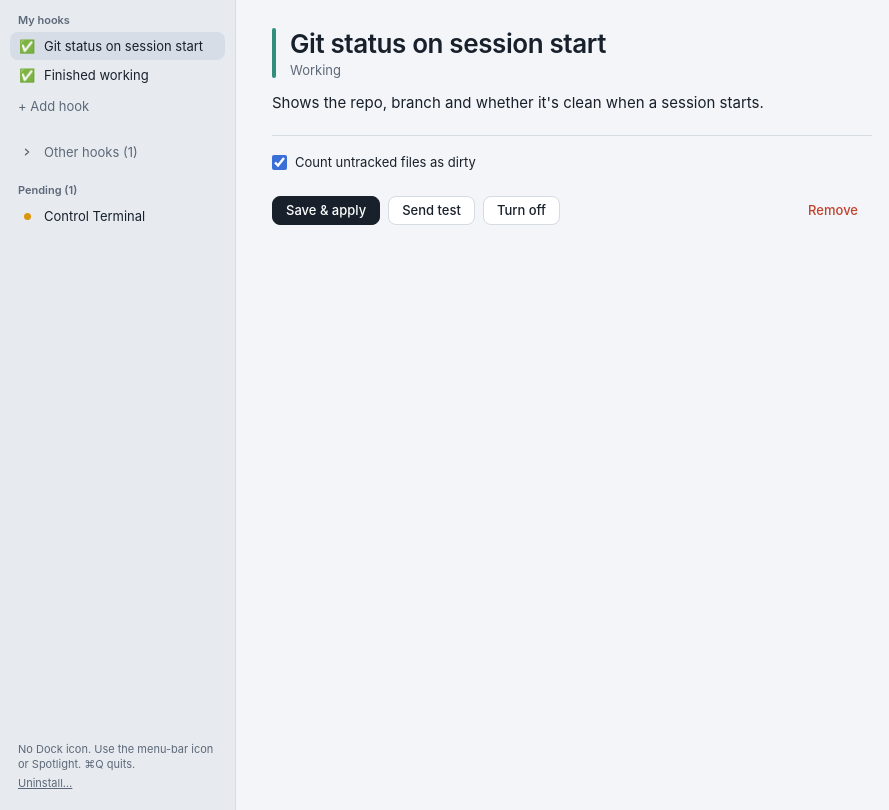
Test: App › other_hooks_render_commands_as_text
The width and height of the screenshot is (889, 810).
Click the button "Other hooks (1)": coordinates (118, 152) [10, 138, 225, 166]
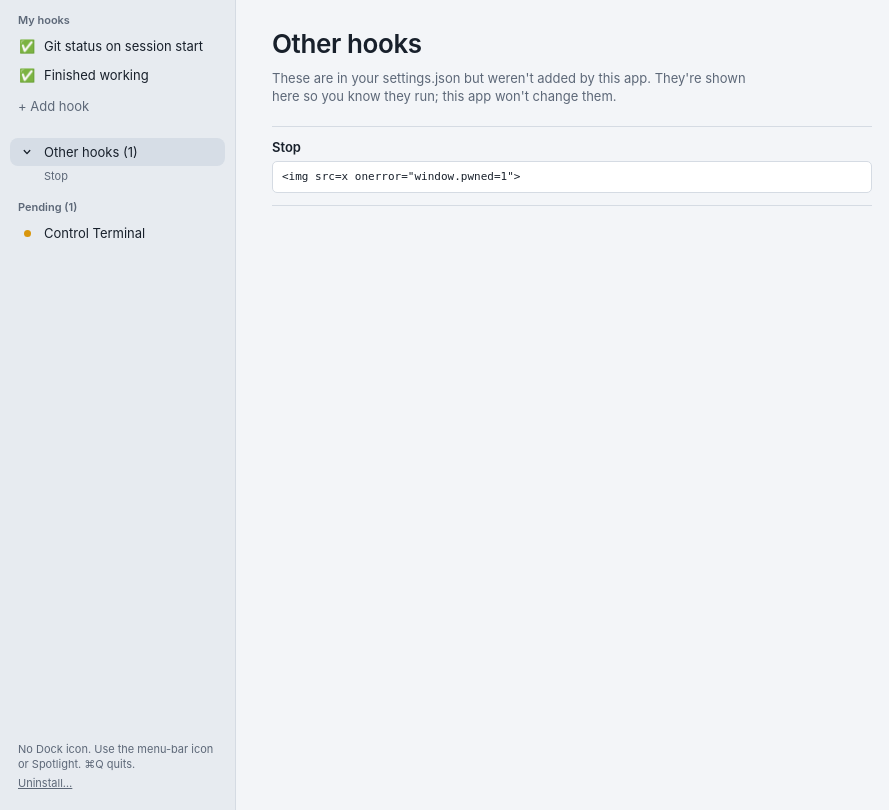
Check: the text "<img src=x onerror=\"window.pwned=1\">" is shown, box [272, 161, 872, 192]
